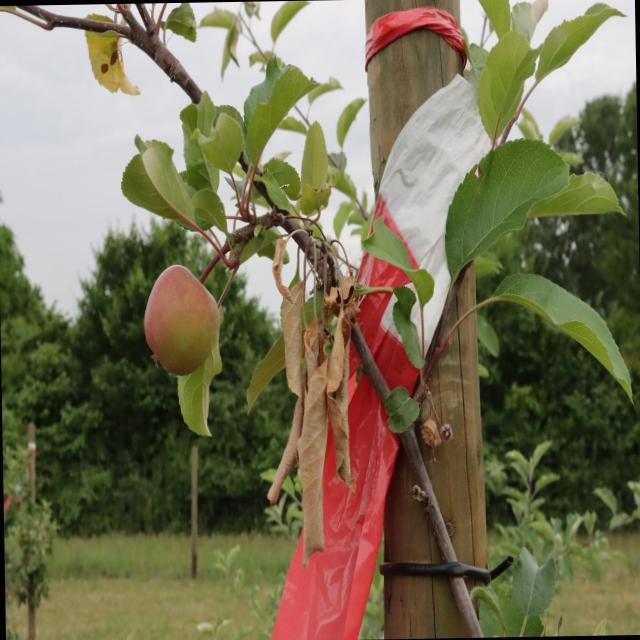-FireBlight-: (260, 218, 362, 550)
